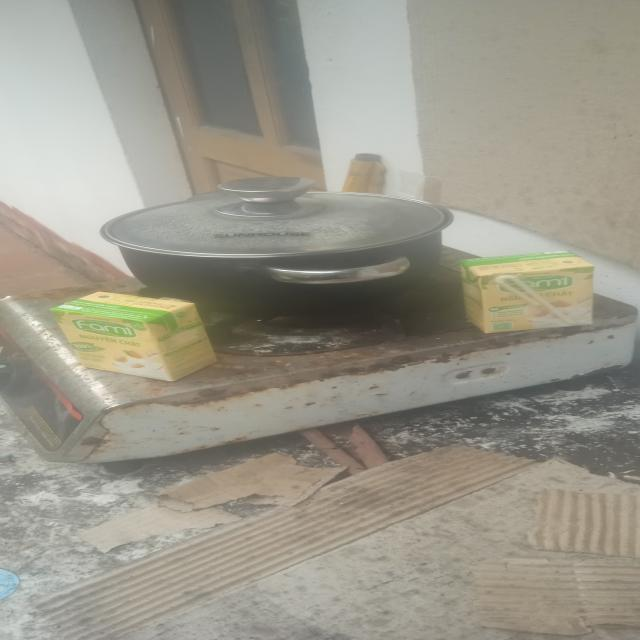Fami: (50, 292, 219, 384), (462, 251, 598, 335)
